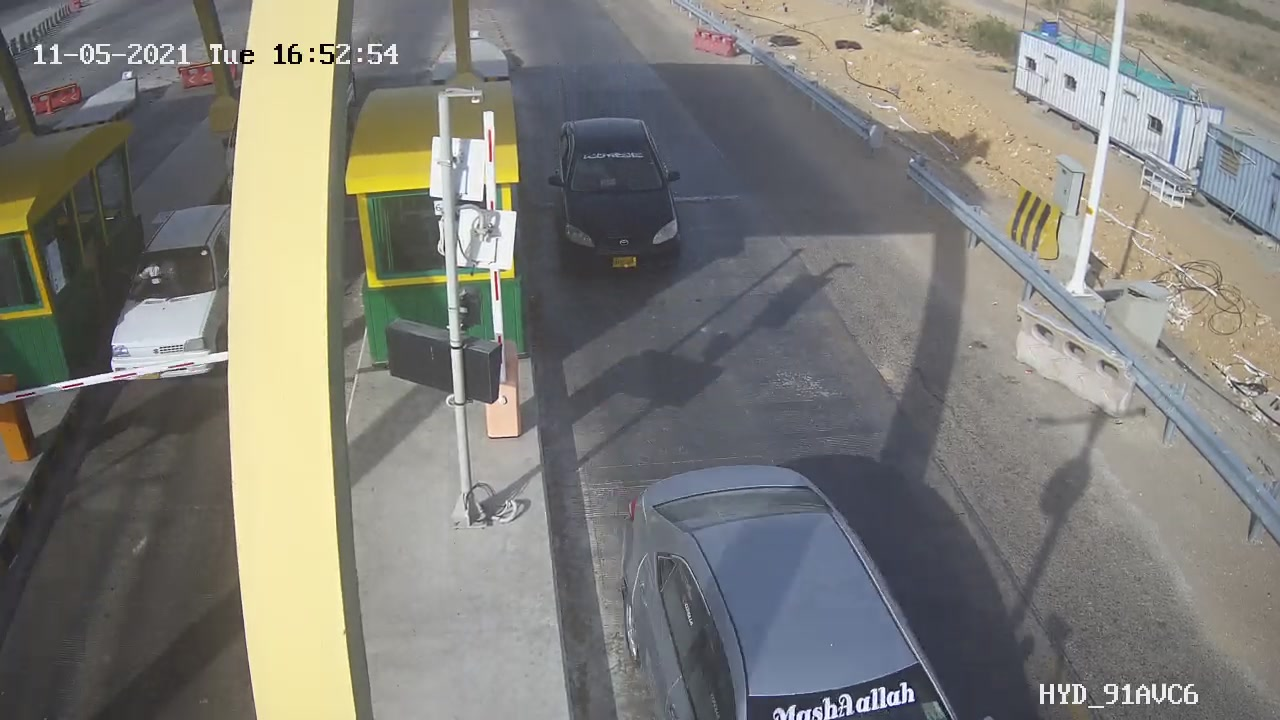F1: (533, 104, 704, 291)
